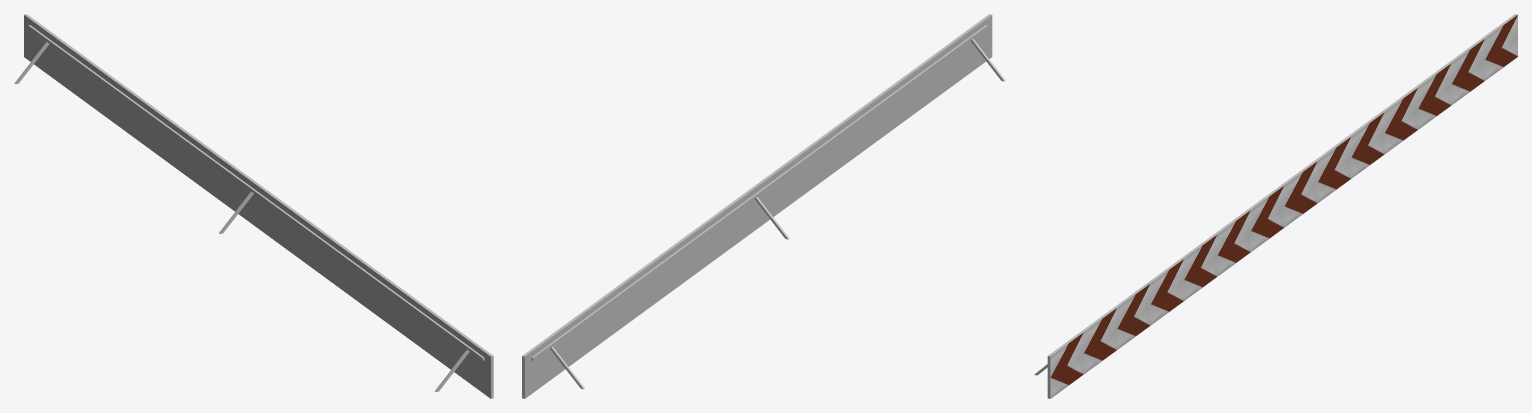
The model's file is Chevron_Sign_Big.fbx.
3 views of the same model, side by side, from view 1: azimuth 30°, elevation 25°; view 2: azimuth 150°, elevation 25°; view 3: azimuth 330°, elevation 25° (orthographic).
Parts seen in each view (by area): view 1: Chevron_Sign_Big; view 2: Chevron_Sign_Big; view 3: Chevron_Sign_Big.
Boxes of the visible parts, x1,y1,x2,y2 form: Chevron_Sign_Big: [14, 14, 493, 398]; Chevron_Sign_Big: [522, 14, 1005, 398]; Chevron_Sign_Big: [1034, 14, 1517, 398].
Size of the model in its own units: 92.19 by 100 by 2000.
